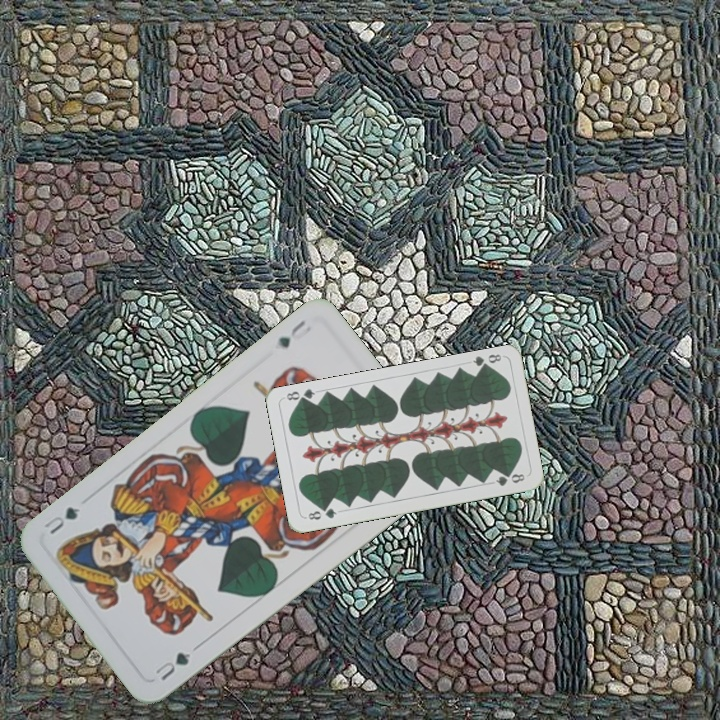G8: (469, 350, 504, 373), (304, 504, 339, 523)
GU: (151, 642, 201, 684), (273, 316, 308, 351)
